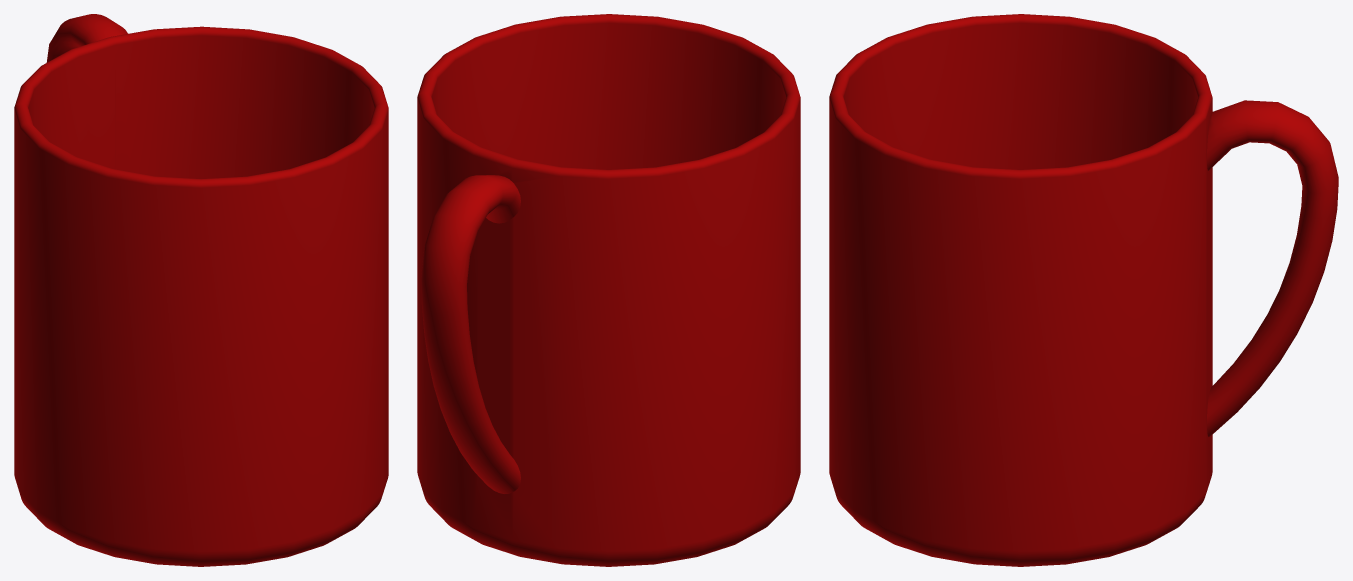
3 renders of one model, left to right at view 1: azimuth 30°, elevation 25°; view 2: azimuth 150°, elevation 25°; view 3: azimuth 270°, elevation 25°, orthographic. The views are drawn at different scales.
Parts seen in each view (by area): view 1: mesh1_mesh1-geometry_1; view 2: mesh1_mesh1-geometry_1; view 3: mesh1_mesh1-geometry_1.
Boxes of the visible parts, left/top/right/bottom form: mesh1_mesh1-geometry_1: left=14, top=14, right=388, bottom=566; mesh1_mesh1-geometry_1: left=417, top=14, right=800, bottom=566; mesh1_mesh1-geometry_1: left=829, top=14, right=1338, bottom=566.
Size of the model in its own units: 0.4947 by 0.5683 by 0.6575.
